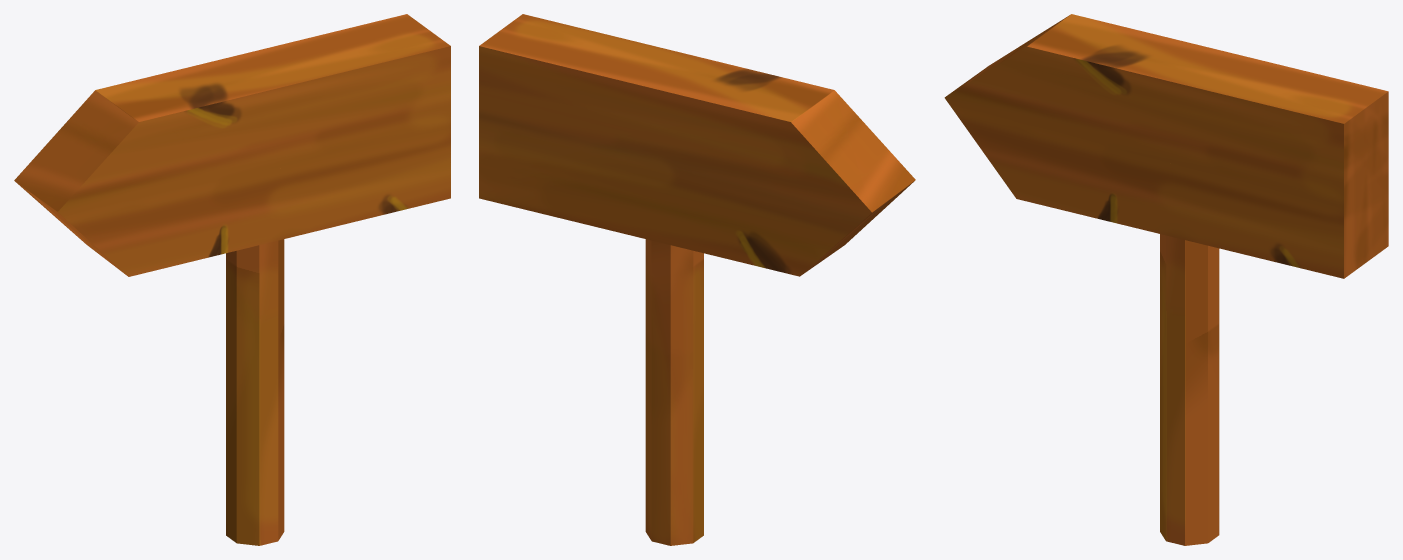
Rendered from sign.obj.
The picture shows the model from 3 angles, left to right: view 1: azimuth 30°, elevation 25°; view 2: azimuth 150°, elevation 25°; view 3: azimuth 330°, elevation 25°; orthographic projection.
Visible parts, largest first — view 1: Cube; view 2: Cube; view 3: Cube.
Boxes of the visible parts, x1,y1,x2,y2 form: Cube: [14, 14, 450, 545]; Cube: [479, 14, 915, 545]; Cube: [944, 14, 1388, 545].
Bounding box in the file's own units: 2.96 × 3.32 × 0.5705.
Materials: 1 (1 with a texture image).
